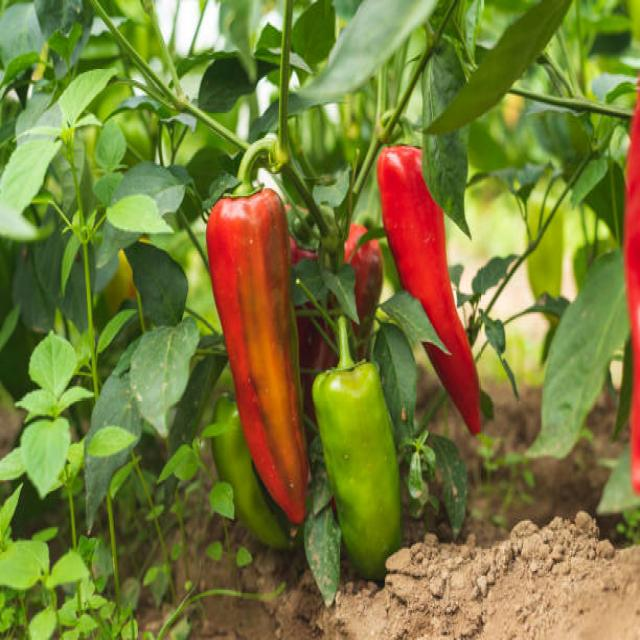Ripe: (206, 190, 308, 525), (375, 146, 477, 430)
Unripe: (312, 364, 402, 585)
